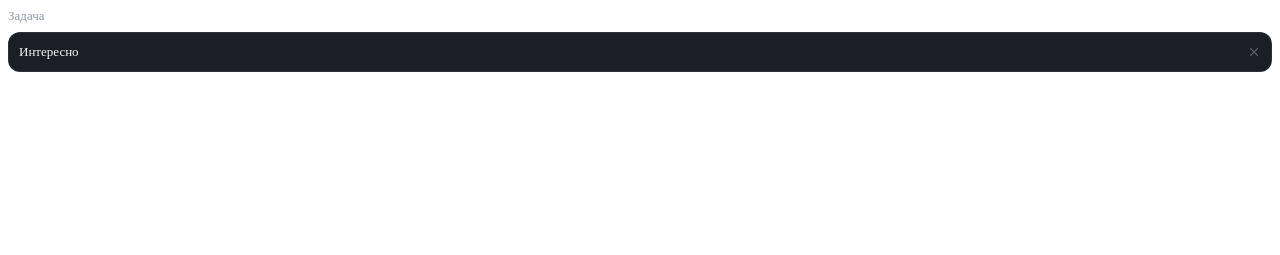
Test: SearchHybrid › keeps the full list on focus in inline mode until the text changes
The image size is (1280, 255).
Click the field labelled "Задача".
click(630, 52)  # box 19,38 -> 1241,66
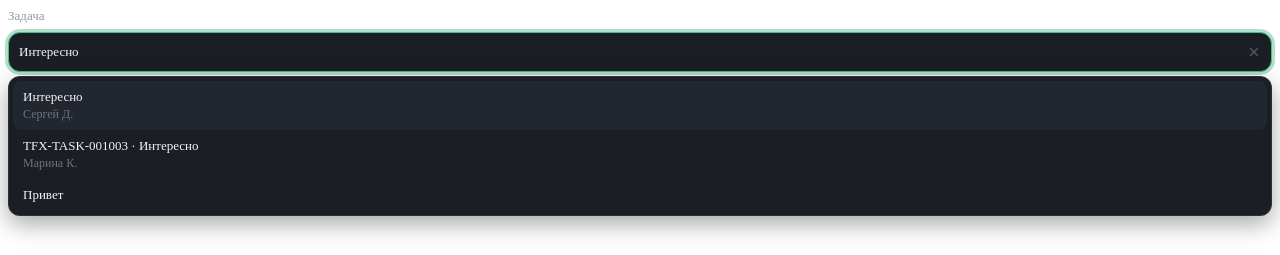
Expected: the option "Привет" is shown, 13,179 -> 1267,211
Clear the field labelled "Задача" at x=630, y=52, box 19,38 -> 1241,66
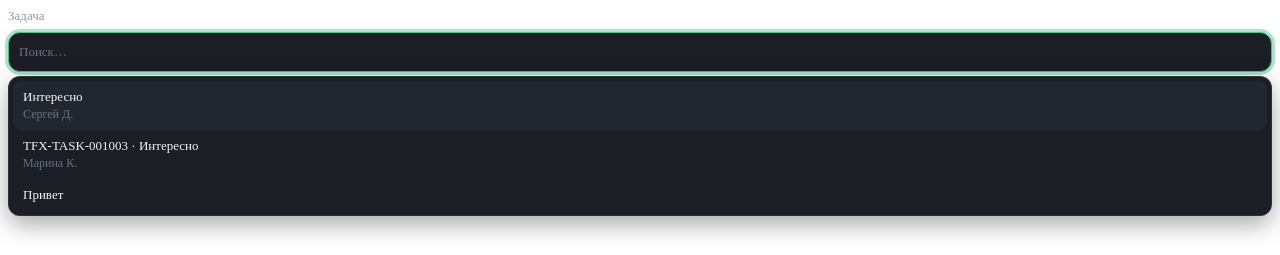
Type "прив" into the field labelled "Задача".
click(640, 52); type("прив")  # box 19,38 -> 1261,66
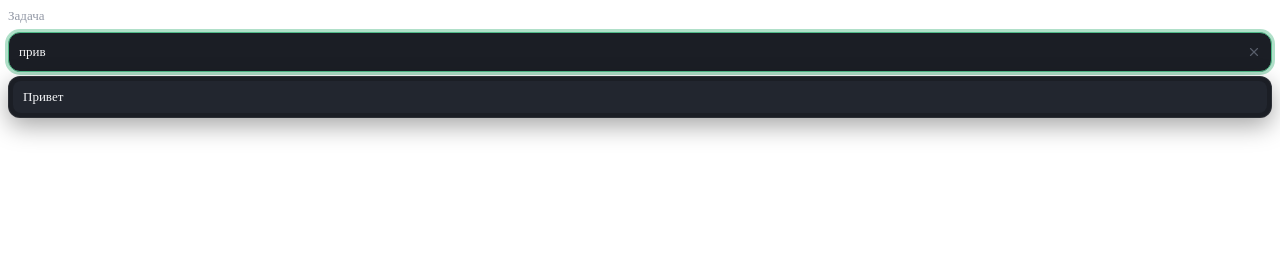
Expected: the option "Привет" is shown, 13,81 -> 1267,113
Expected: the option "Интересно" is gone
